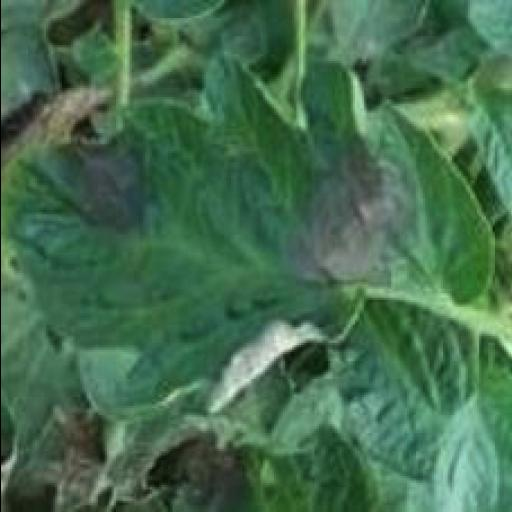Late Blight: (0, 48, 508, 418)
